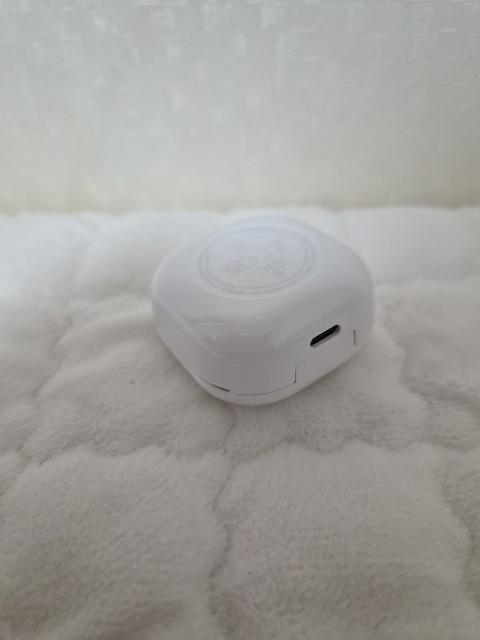earphone_case: (150, 215, 375, 406)
